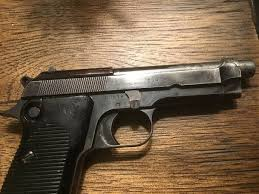gun: (7, 56, 259, 188)
